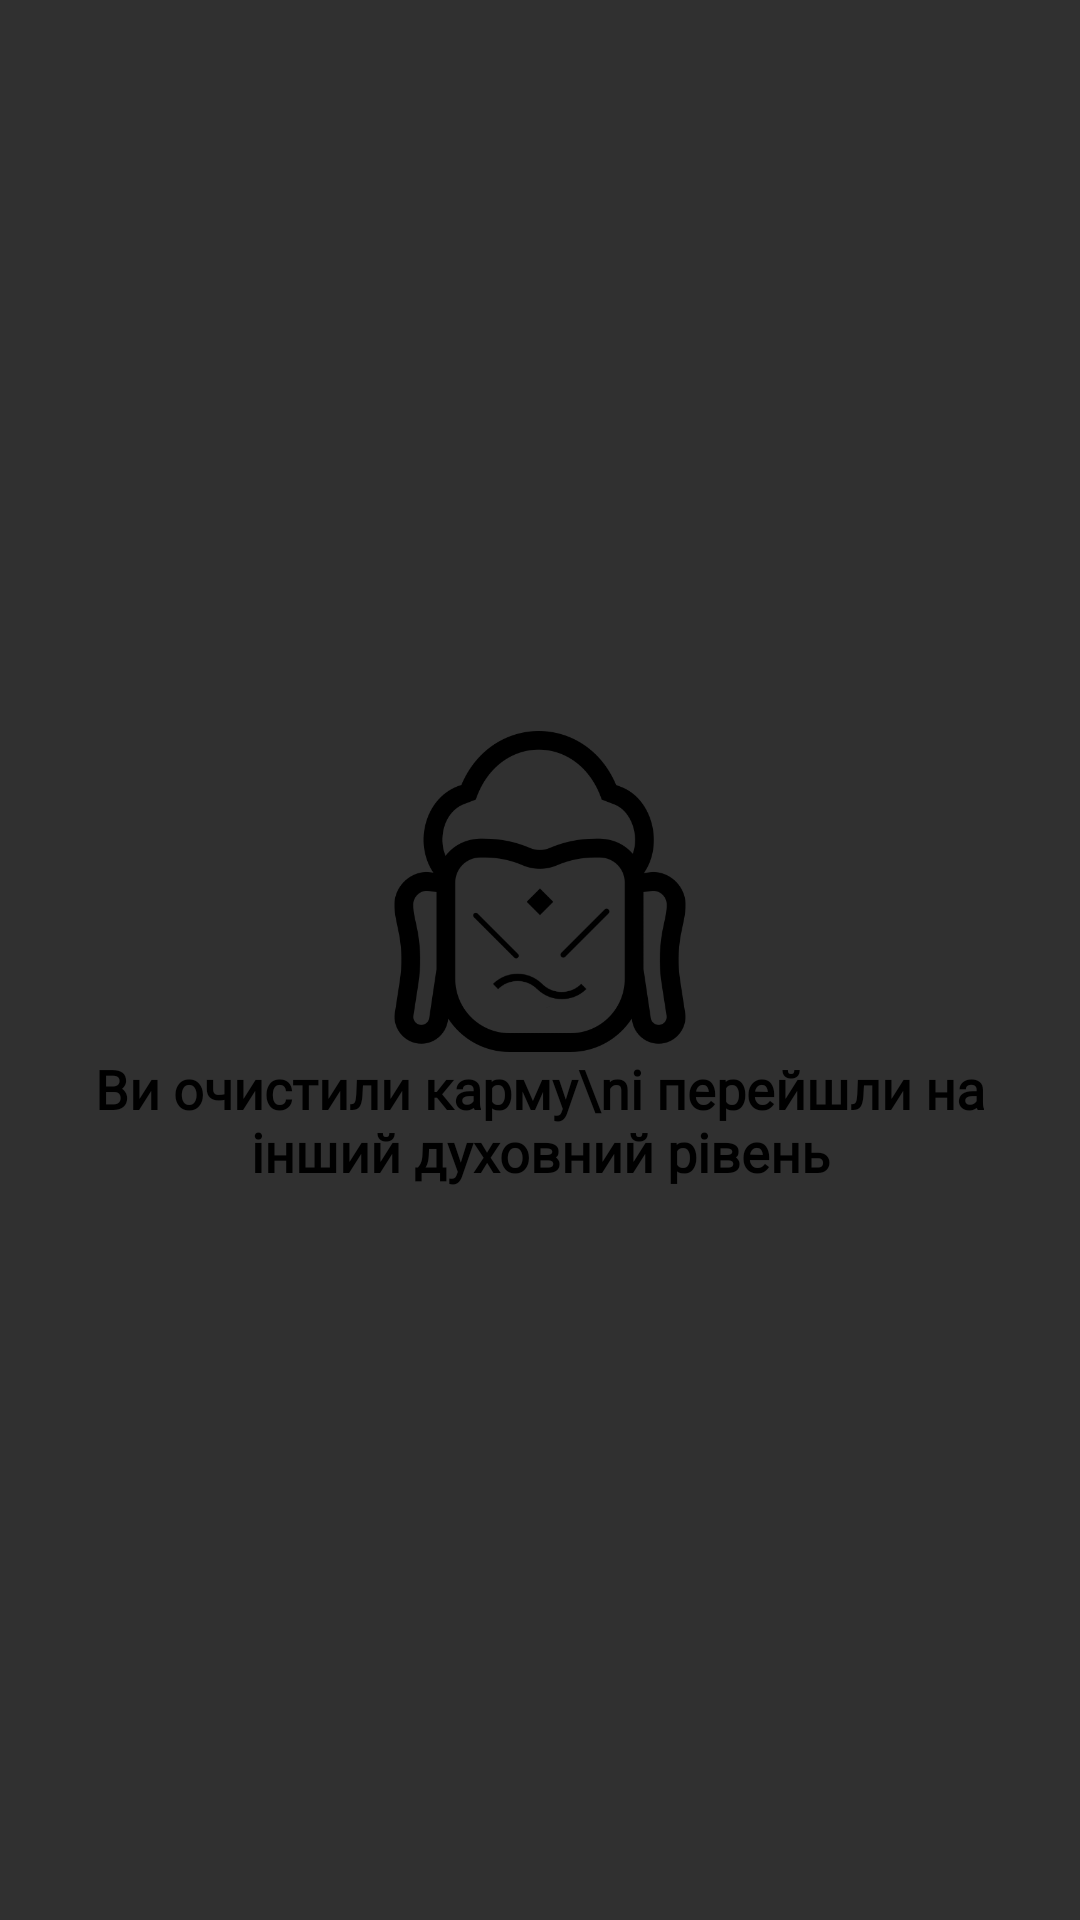

Where to tap for icons on this 1080*1920 app screen, as (x,y):
karmasymbolbad: (540,891)
